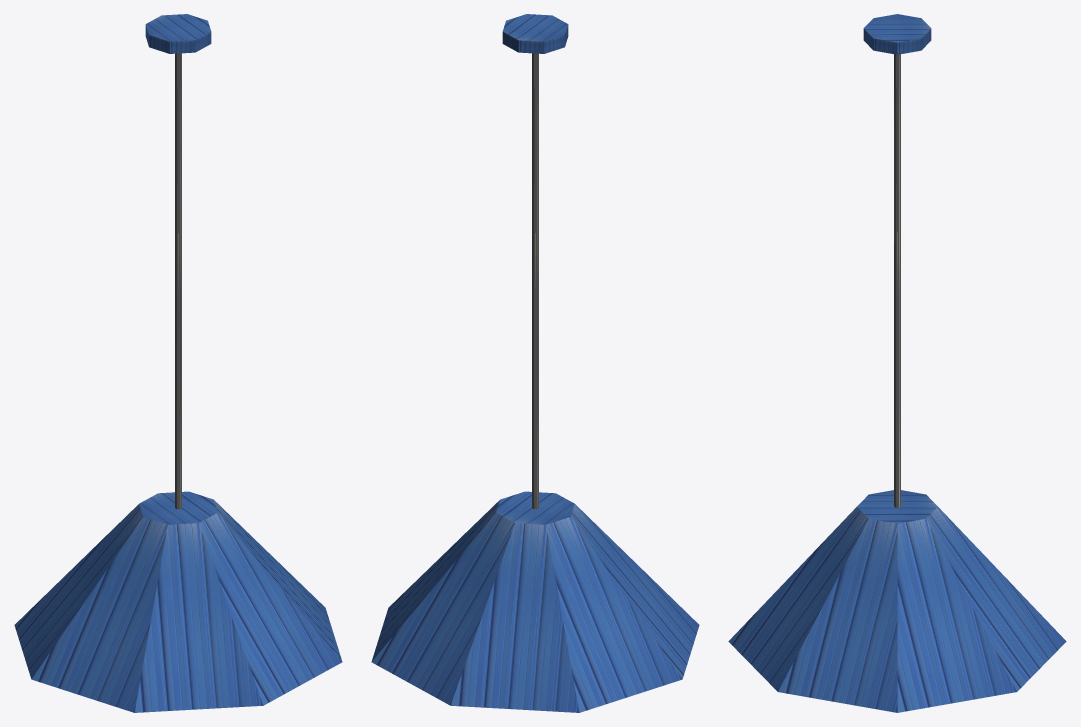
File: Lamp_Pendant.fbx
3 renders of one model, left to right at view 1: azimuth 30°, elevation 25°; view 2: azimuth 150°, elevation 25°; view 3: azimuth 270°, elevation 25°, orthographic.
Visible parts, largest first — view 1: Lamp_Pendant; view 2: Lamp_Pendant; view 3: Lamp_Pendant.
Boxes of the visible parts, x1,y1,x2,y2 form: Lamp_Pendant: (14,14,342,712); Lamp_Pendant: (371,14,699,712); Lamp_Pendant: (728,14,1066,712).
Size of the model in its own units: 0.5 by 1 by 0.5.
